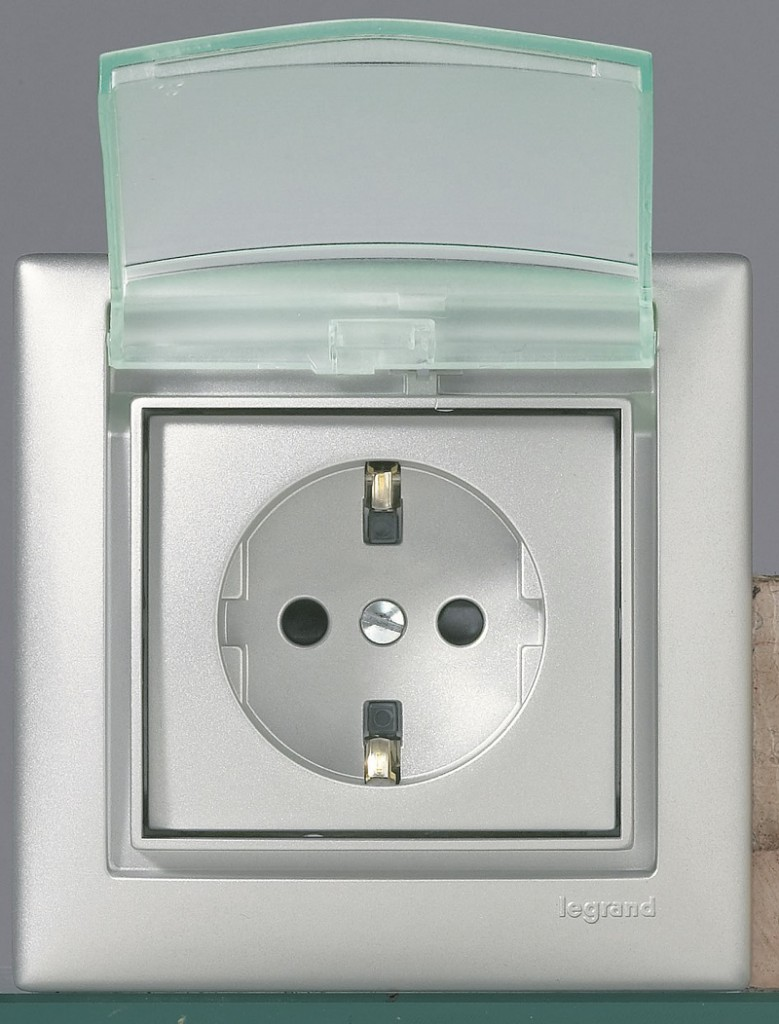raccoon: (217, 449, 548, 800)
